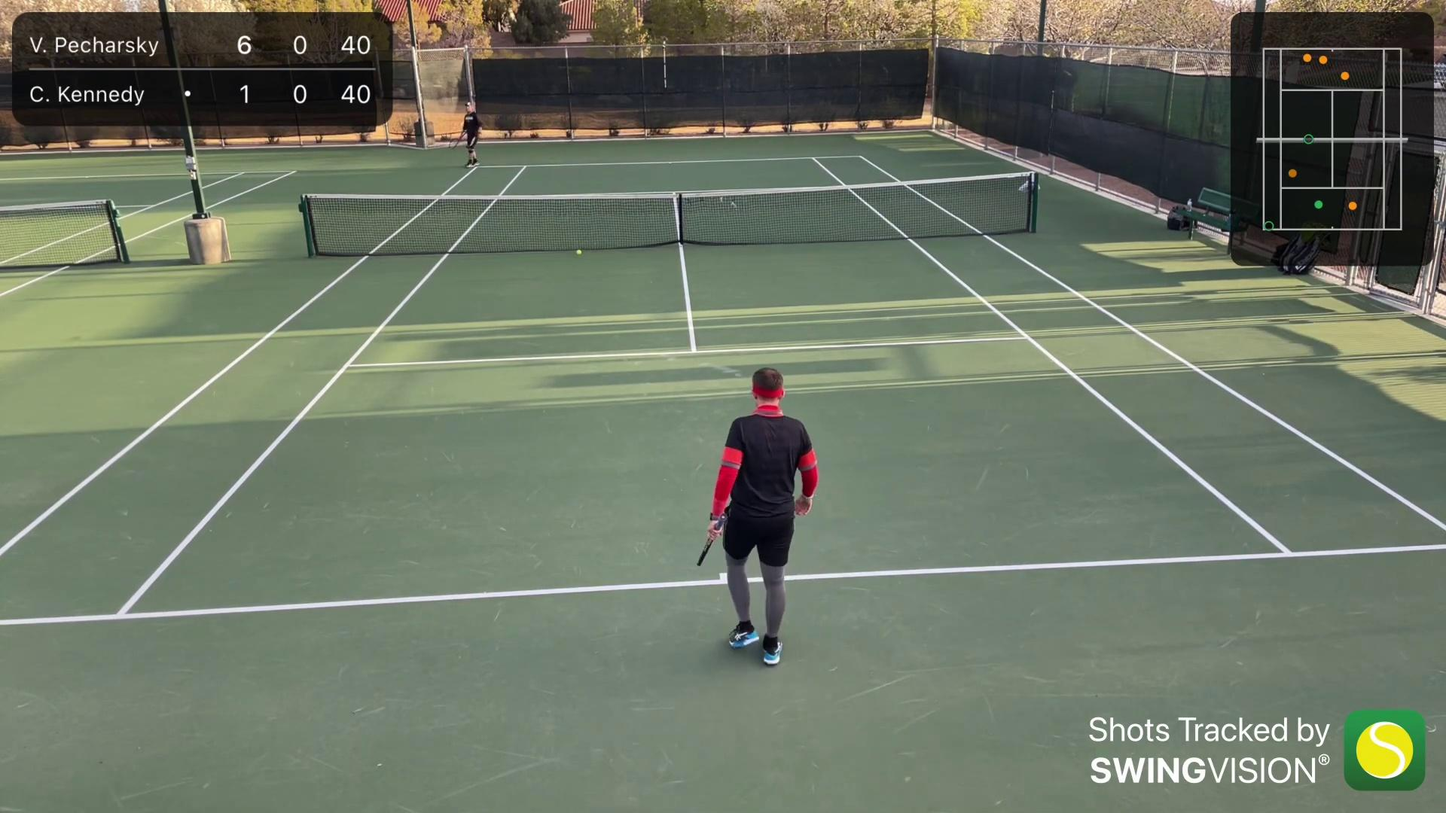ball: (575, 249, 583, 256)
